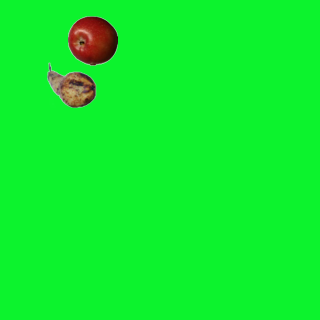Apple Braeburn: (67, 15, 117, 65)
Pear Abate: (46, 60, 96, 110)
